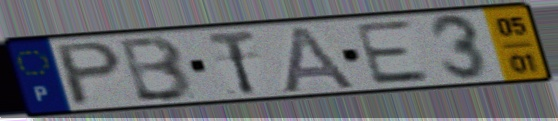3: (428, 11, 491, 85)
A: (278, 23, 360, 95)
B: (118, 33, 197, 104)
E: (350, 18, 435, 87)
P: (53, 39, 125, 109)
T: (204, 28, 259, 98)
